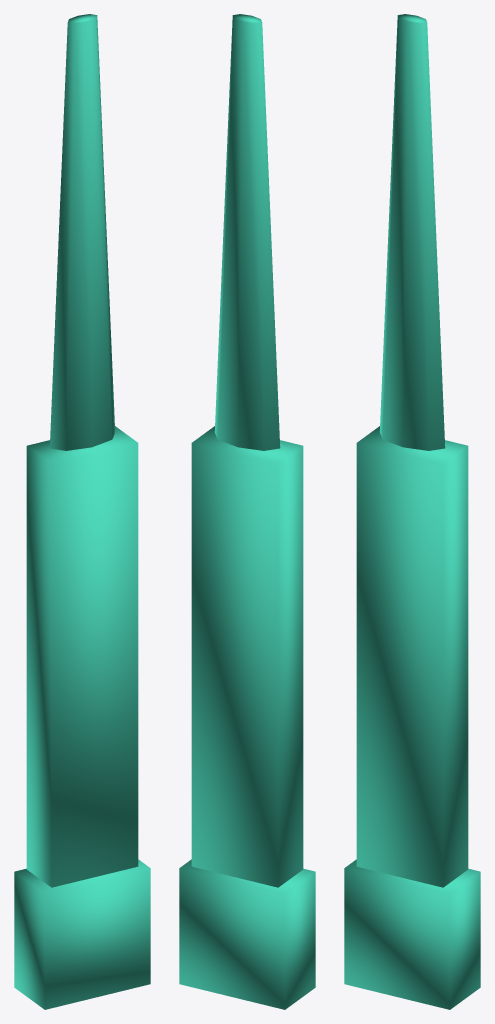
Rendered from shaper-murim-jade-sword.glb.
The picture shows the model from 3 angles, left to right: view 1: azimuth 30°, elevation 25°; view 2: azimuth 150°, elevation 25°; view 3: azimuth 330°, elevation 25°; orthographic projection.
Parts seen in each view (by area): view 1: shaper-murim-jade-sword; view 2: shaper-murim-jade-sword; view 3: shaper-murim-jade-sword.
Boxes of the visible parts, x1=… form: shaper-murim-jade-sword: x1=14, y1=14, x2=150, y2=1009; shaper-murim-jade-sword: x1=179, y1=14, x2=315, y2=1009; shaper-murim-jade-sword: x1=344, y1=14, x2=480, y2=1009.
Bounding box in the file's own units: 0.12 × 1.05 × 0.06.
